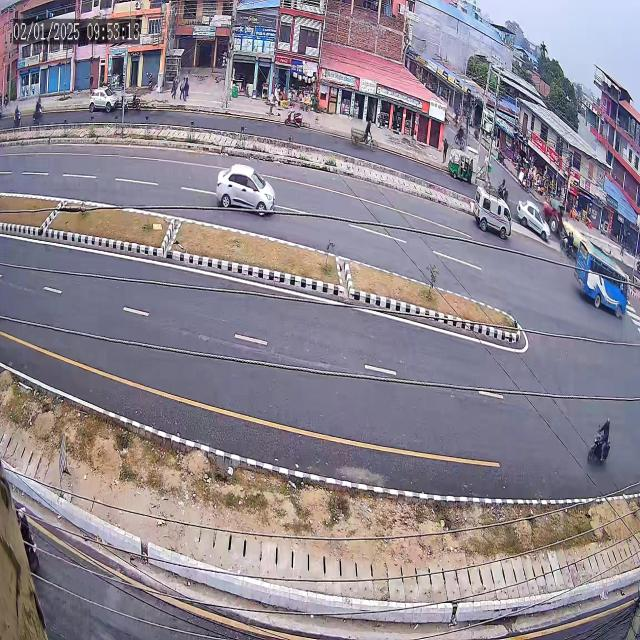bus: (571, 234, 634, 334)
car: (210, 150, 282, 227)
cycle: (356, 112, 383, 163)
motorcycle: (578, 404, 622, 476), (31, 84, 54, 135)
van: (465, 177, 516, 246)
